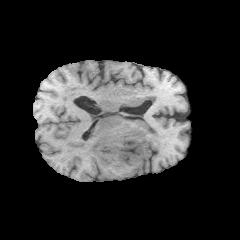glioma: (79, 124, 146, 166)
